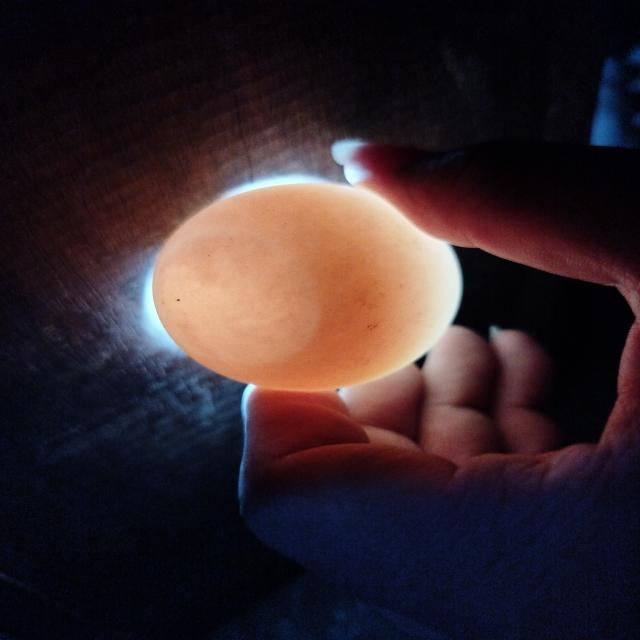Camara de Ar: (158, 231, 317, 366)
